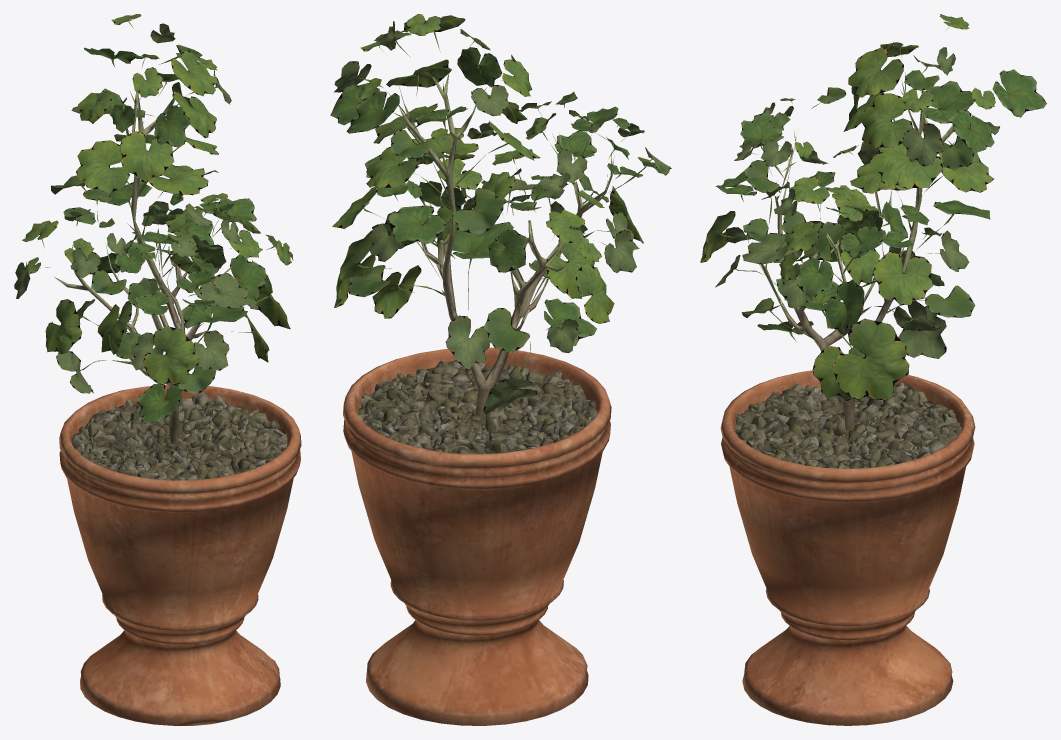
Rendered from prop-potted-plant-01.glb.
The picture shows the model from 3 angles, left to right: view 1: azimuth 30°, elevation 25°; view 2: azimuth 150°, elevation 25°; view 3: azimuth 270°, elevation 25°; orthographic projection. The views are drawn at different scales.
Parts seen in each view (by area): view 1: potted_plant_01_stem, potted_plant_01_leaves; view 2: potted_plant_01_stem, potted_plant_01_leaves; view 3: potted_plant_01_stem, potted_plant_01_leaves.
Boxes of the visible parts, x1,y1,x2,y2 form: potted_plant_01_stem: [54, 91, 301, 725]; potted_plant_01_leaves: [14, 14, 293, 423]; potted_plant_01_stem: [343, 72, 612, 725]; potted_plant_01_leaves: [330, 14, 671, 413]; potted_plant_01_stem: [720, 80, 975, 725]; potted_plant_01_leaves: [700, 14, 1046, 400].
Size of the model in its own units: 0.5866 by 1.34 by 0.6336.
2 materials, 2 textured.
